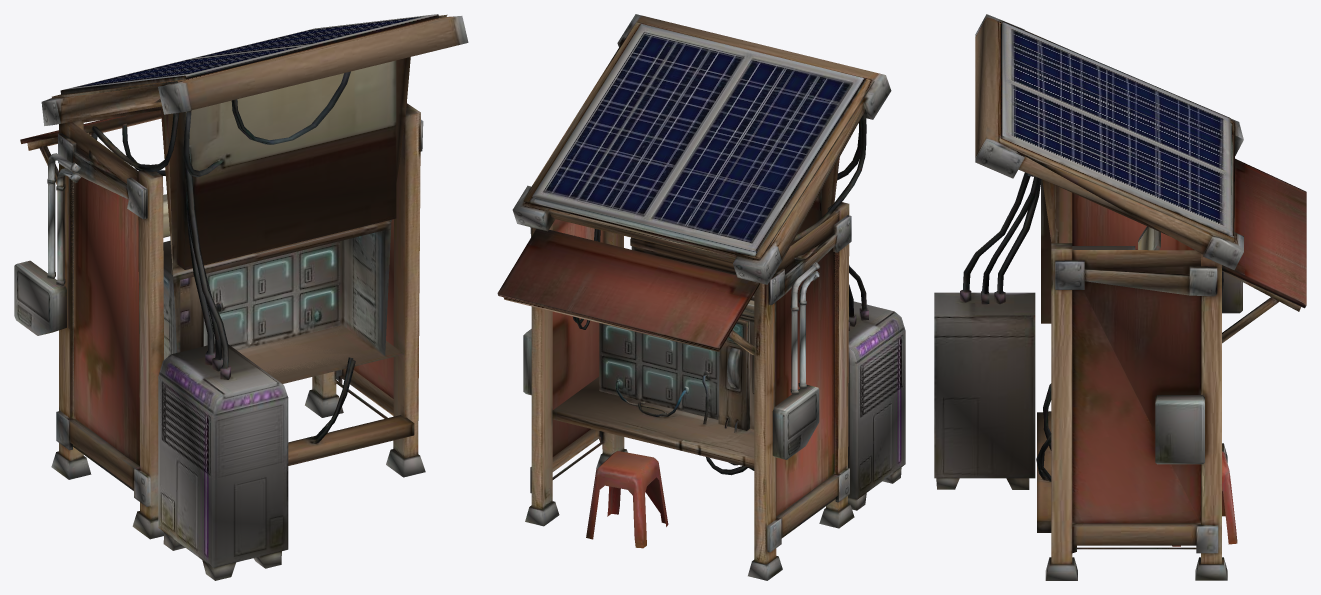
The model's file is charging_kiosk.glb.
3 renders of one model, left to right at view 1: azimuth 30°, elevation 25°; view 2: azimuth 150°, elevation 25°; view 3: azimuth 270°, elevation 25°, orthographic. The views are drawn at different scales.
Visible parts, largest first — view 1: Body; view 2: Body; view 3: Body.
Part boxes in pixels (x1=…): Body: x1=14, y1=14, x2=468, y2=580; Body: x1=497, y1=14, x2=905, y2=580; Body: x1=934, y1=14, x2=1306, y2=580.
Size of the model in its own units: 1.67 by 2.4 by 1.84.
Materials: 1 (1 with a texture image).
